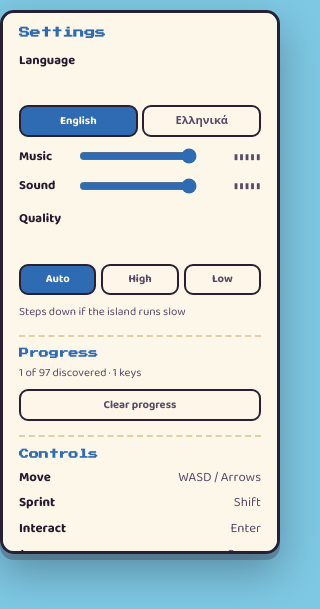
Test: taking the visit back › offers a way out of the asking
The image size is (320, 609).
Click the button "Clear progress". click: (140, 405)
box: [19,389,261,421]
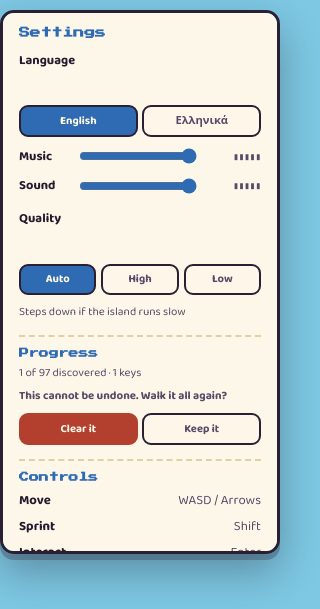
Click the button "Keep it". click: (202, 429)
box: [142,413,261,444]
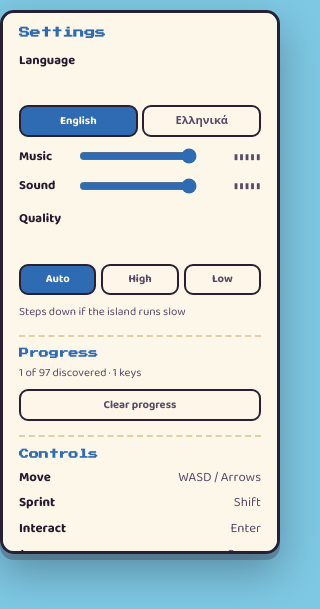
Now the button "Clear progress" is shown, box [19,389,261,421]
